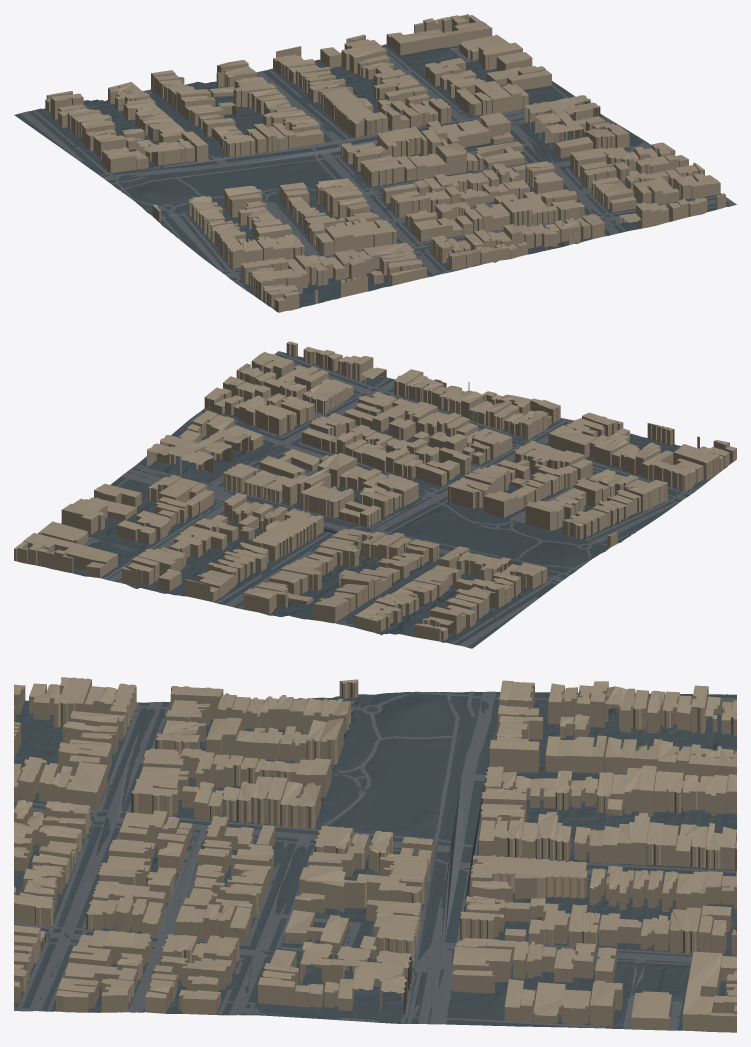
Rendered from epsg26910-1432-10886.lod0.glb.
3 renders of one model, top to bottom at view 1: azimuth 30°, elevation 25°; view 2: azimuth 150°, elevation 25°; view 3: azimuth 270°, elevation 25°, orthographic. The views are drawn at different scales.
Visible parts, largest first — view 1: epsg26910-1432-10886-lod0; view 2: epsg26910-1432-10886-lod0; view 3: epsg26910-1432-10886-lod0.
Boxes of the visible parts, <box> form: epsg26910-1432-10886-lod0: <box>14,14,736,312</box>; epsg26910-1432-10886-lod0: <box>14,341,736,648</box>; epsg26910-1432-10886-lod0: <box>14,677,736,1032</box>.
Size of the model in its own units: 384 by 35 by 384.
